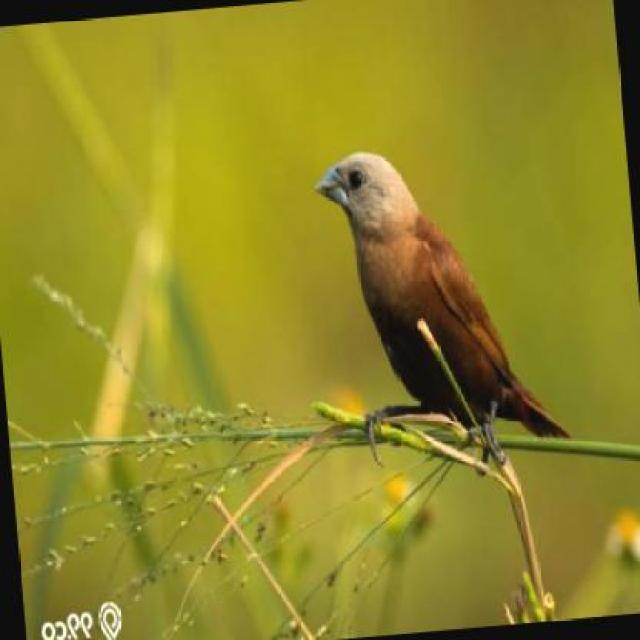Bird: (308, 146, 575, 468)
